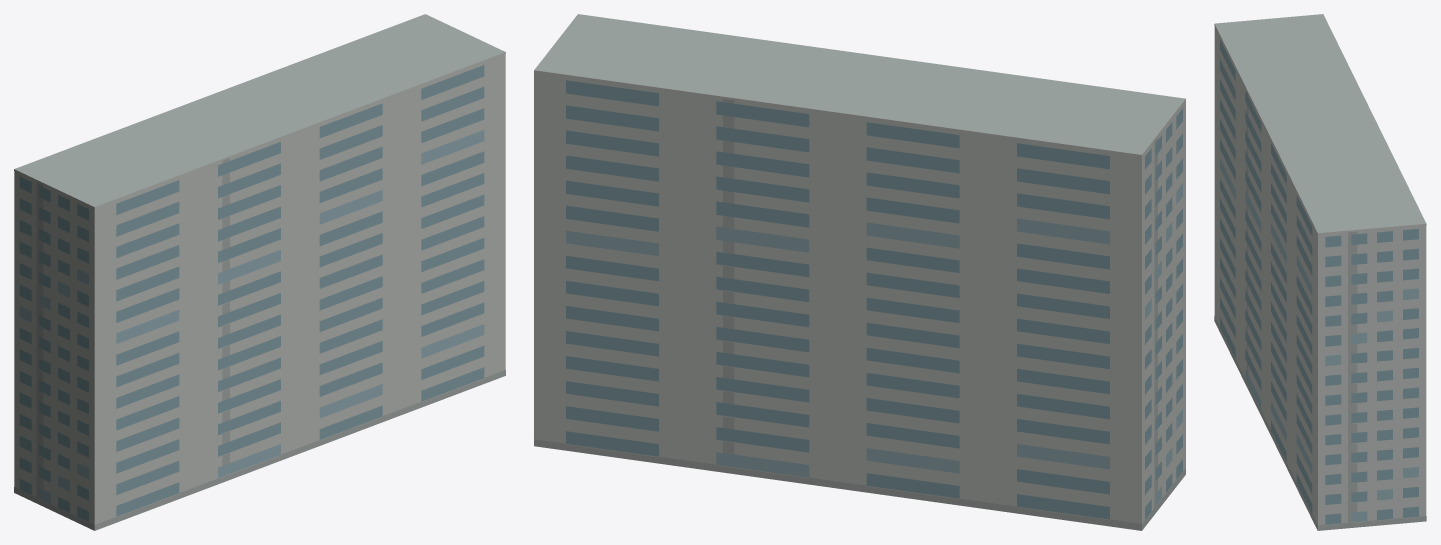
Rendered from residential-c9807560-3614-4715-bfa7-ebf69944bdf4.glb.
The picture shows the model from 3 angles, left to right: view 1: azimuth 30°, elevation 25°; view 2: azimuth 150°, elevation 25°; view 3: azimuth 270°, elevation 25°; orthographic projection. The views are drawn at different scales.
Parts seen in each view (by area): view 1: residential-c9807560-3614-4715-bfa7-ebf69944bdf4.tmp; view 2: residential-c9807560-3614-4715-bfa7-ebf69944bdf4.tmp; view 3: residential-c9807560-3614-4715-bfa7-ebf69944bdf4.tmp.
Part boxes in pixels (x1,y1,x2,y2): residential-c9807560-3614-4715-bfa7-ebf69944bdf4.tmp: [14, 14, 505, 530]; residential-c9807560-3614-4715-bfa7-ebf69944bdf4.tmp: [534, 14, 1185, 530]; residential-c9807560-3614-4715-bfa7-ebf69944bdf4.tmp: [1214, 14, 1426, 530].
Bounding box in the file's own units: 66.35 × 42 × 27.12.
